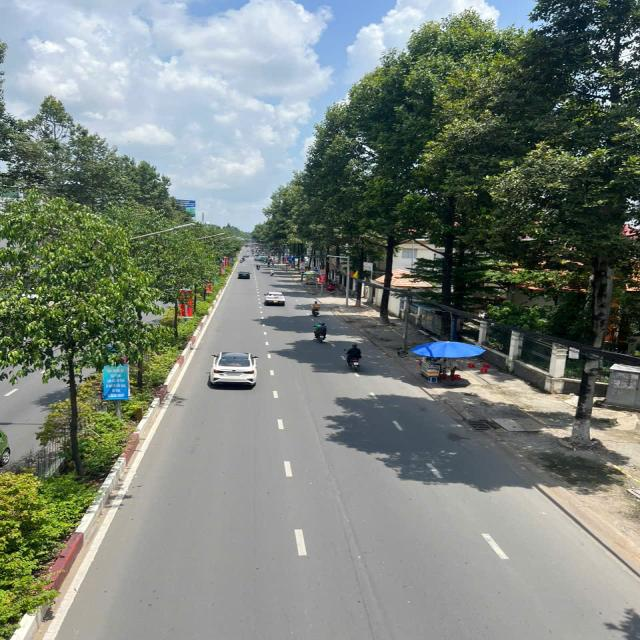car: (204, 346, 264, 391), (262, 288, 288, 310), (234, 268, 253, 282)
motobyte: (340, 340, 367, 376), (309, 319, 331, 346), (308, 296, 325, 320), (266, 267, 277, 279), (255, 260, 262, 272)
